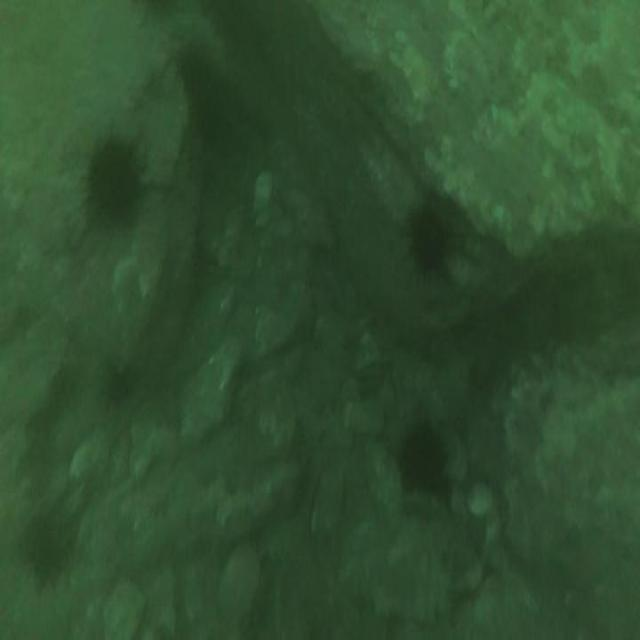echinus: (90, 147, 138, 220), (407, 206, 453, 278), (401, 427, 446, 493), (32, 528, 71, 588)
